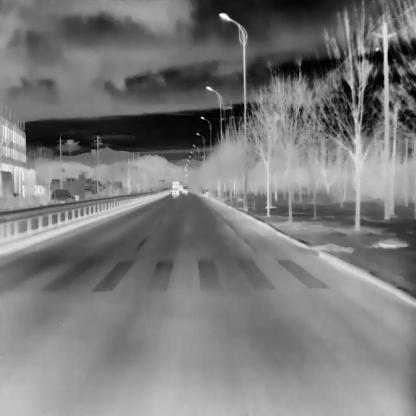car: (49, 188, 75, 202), (171, 185, 179, 196), (182, 186, 187, 193)
truck: (172, 180, 178, 190)
